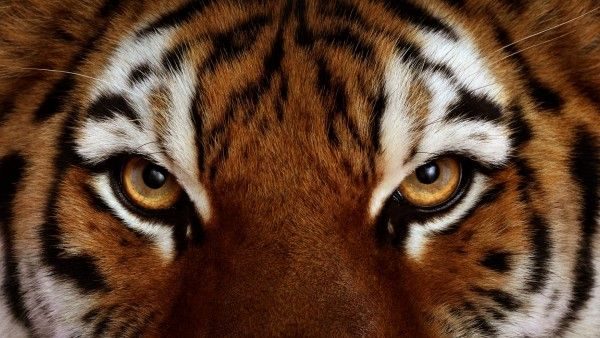Tigrew: (22, 10, 583, 338)
